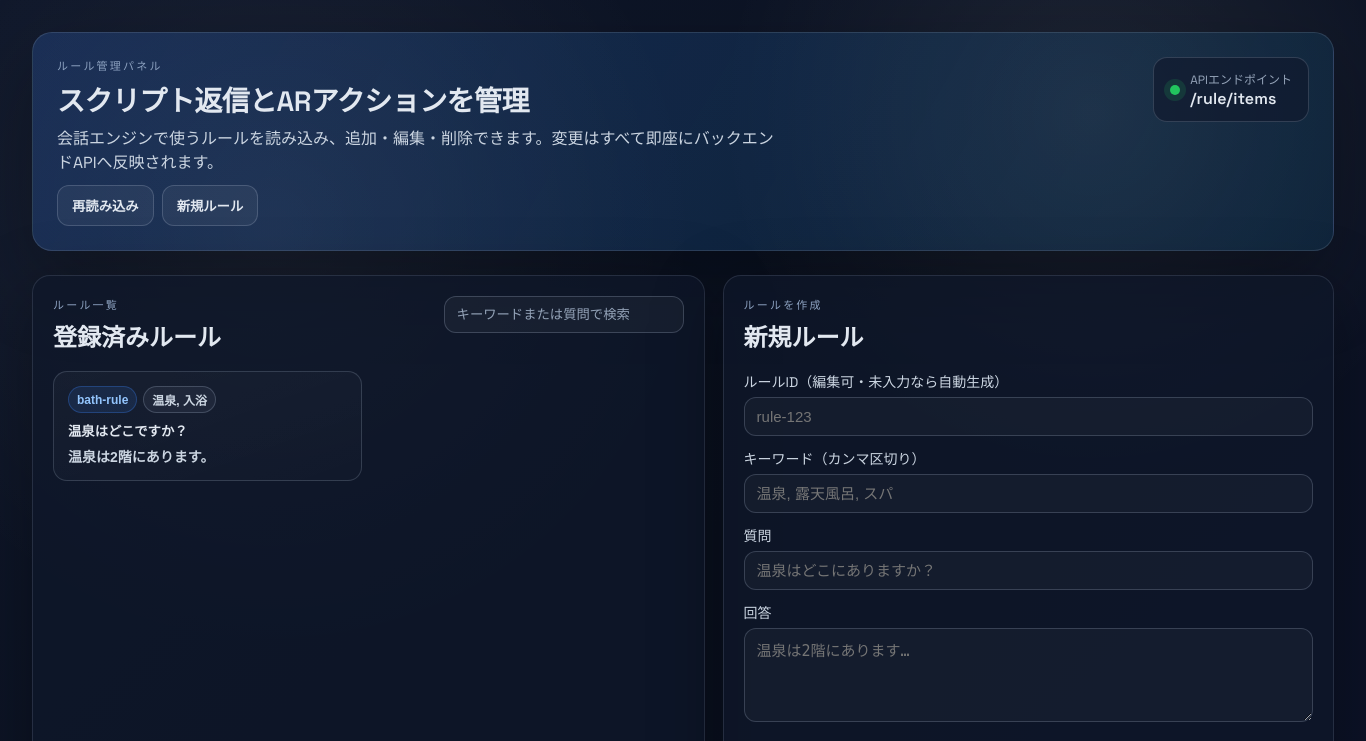
loads rules and selects one for editing
Click the text "温泉はどこですか？" at (128, 432), box [68,424,188,439]
(page scrolled)
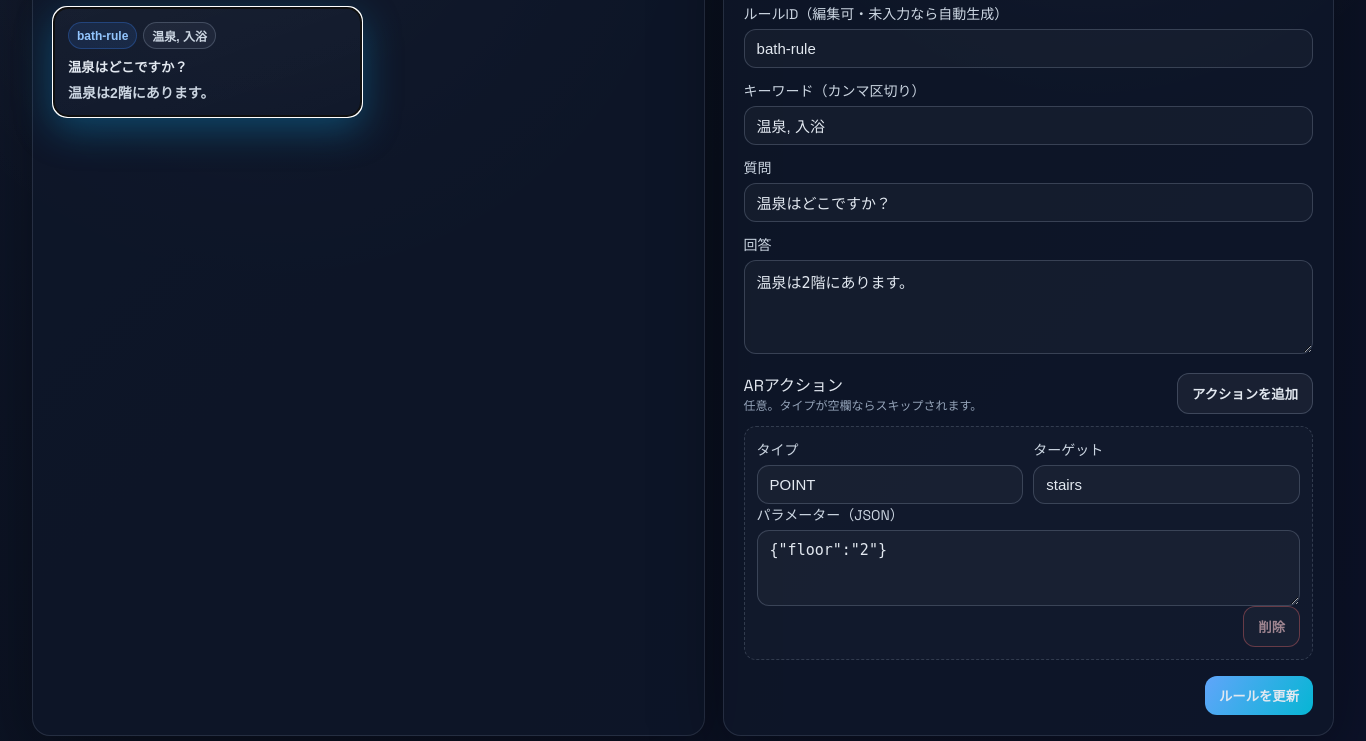
expect the button "ルールを更新" is enabled: met, box [1205,676,1313,715]
expect the field showing "bath-rule" is shown: met, box [744,29,1313,68]
expect the field showing "温泉, 入浴" is shown: met, box [744,106,1313,145]
